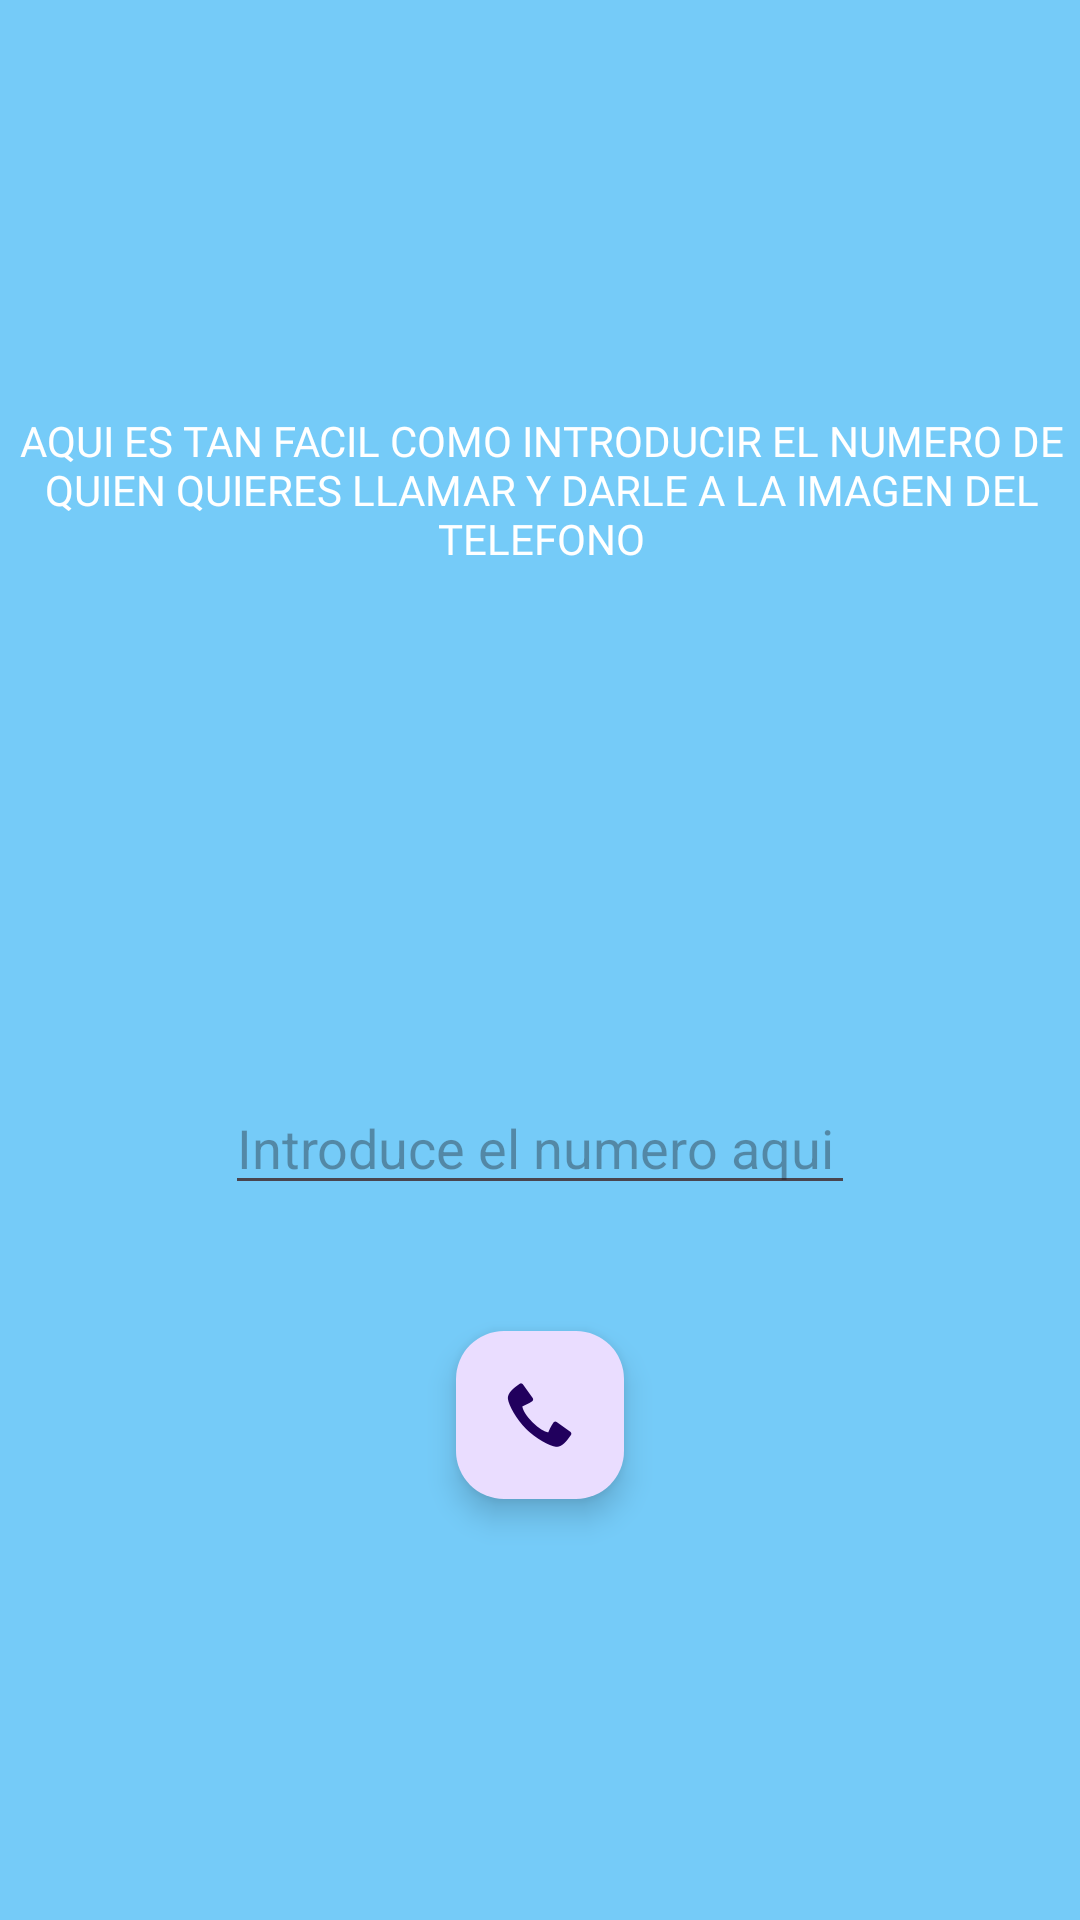

Named icons in this screenshot (1080 x 1920) and their centers, [x,y]:
phone call: [540,1415]
